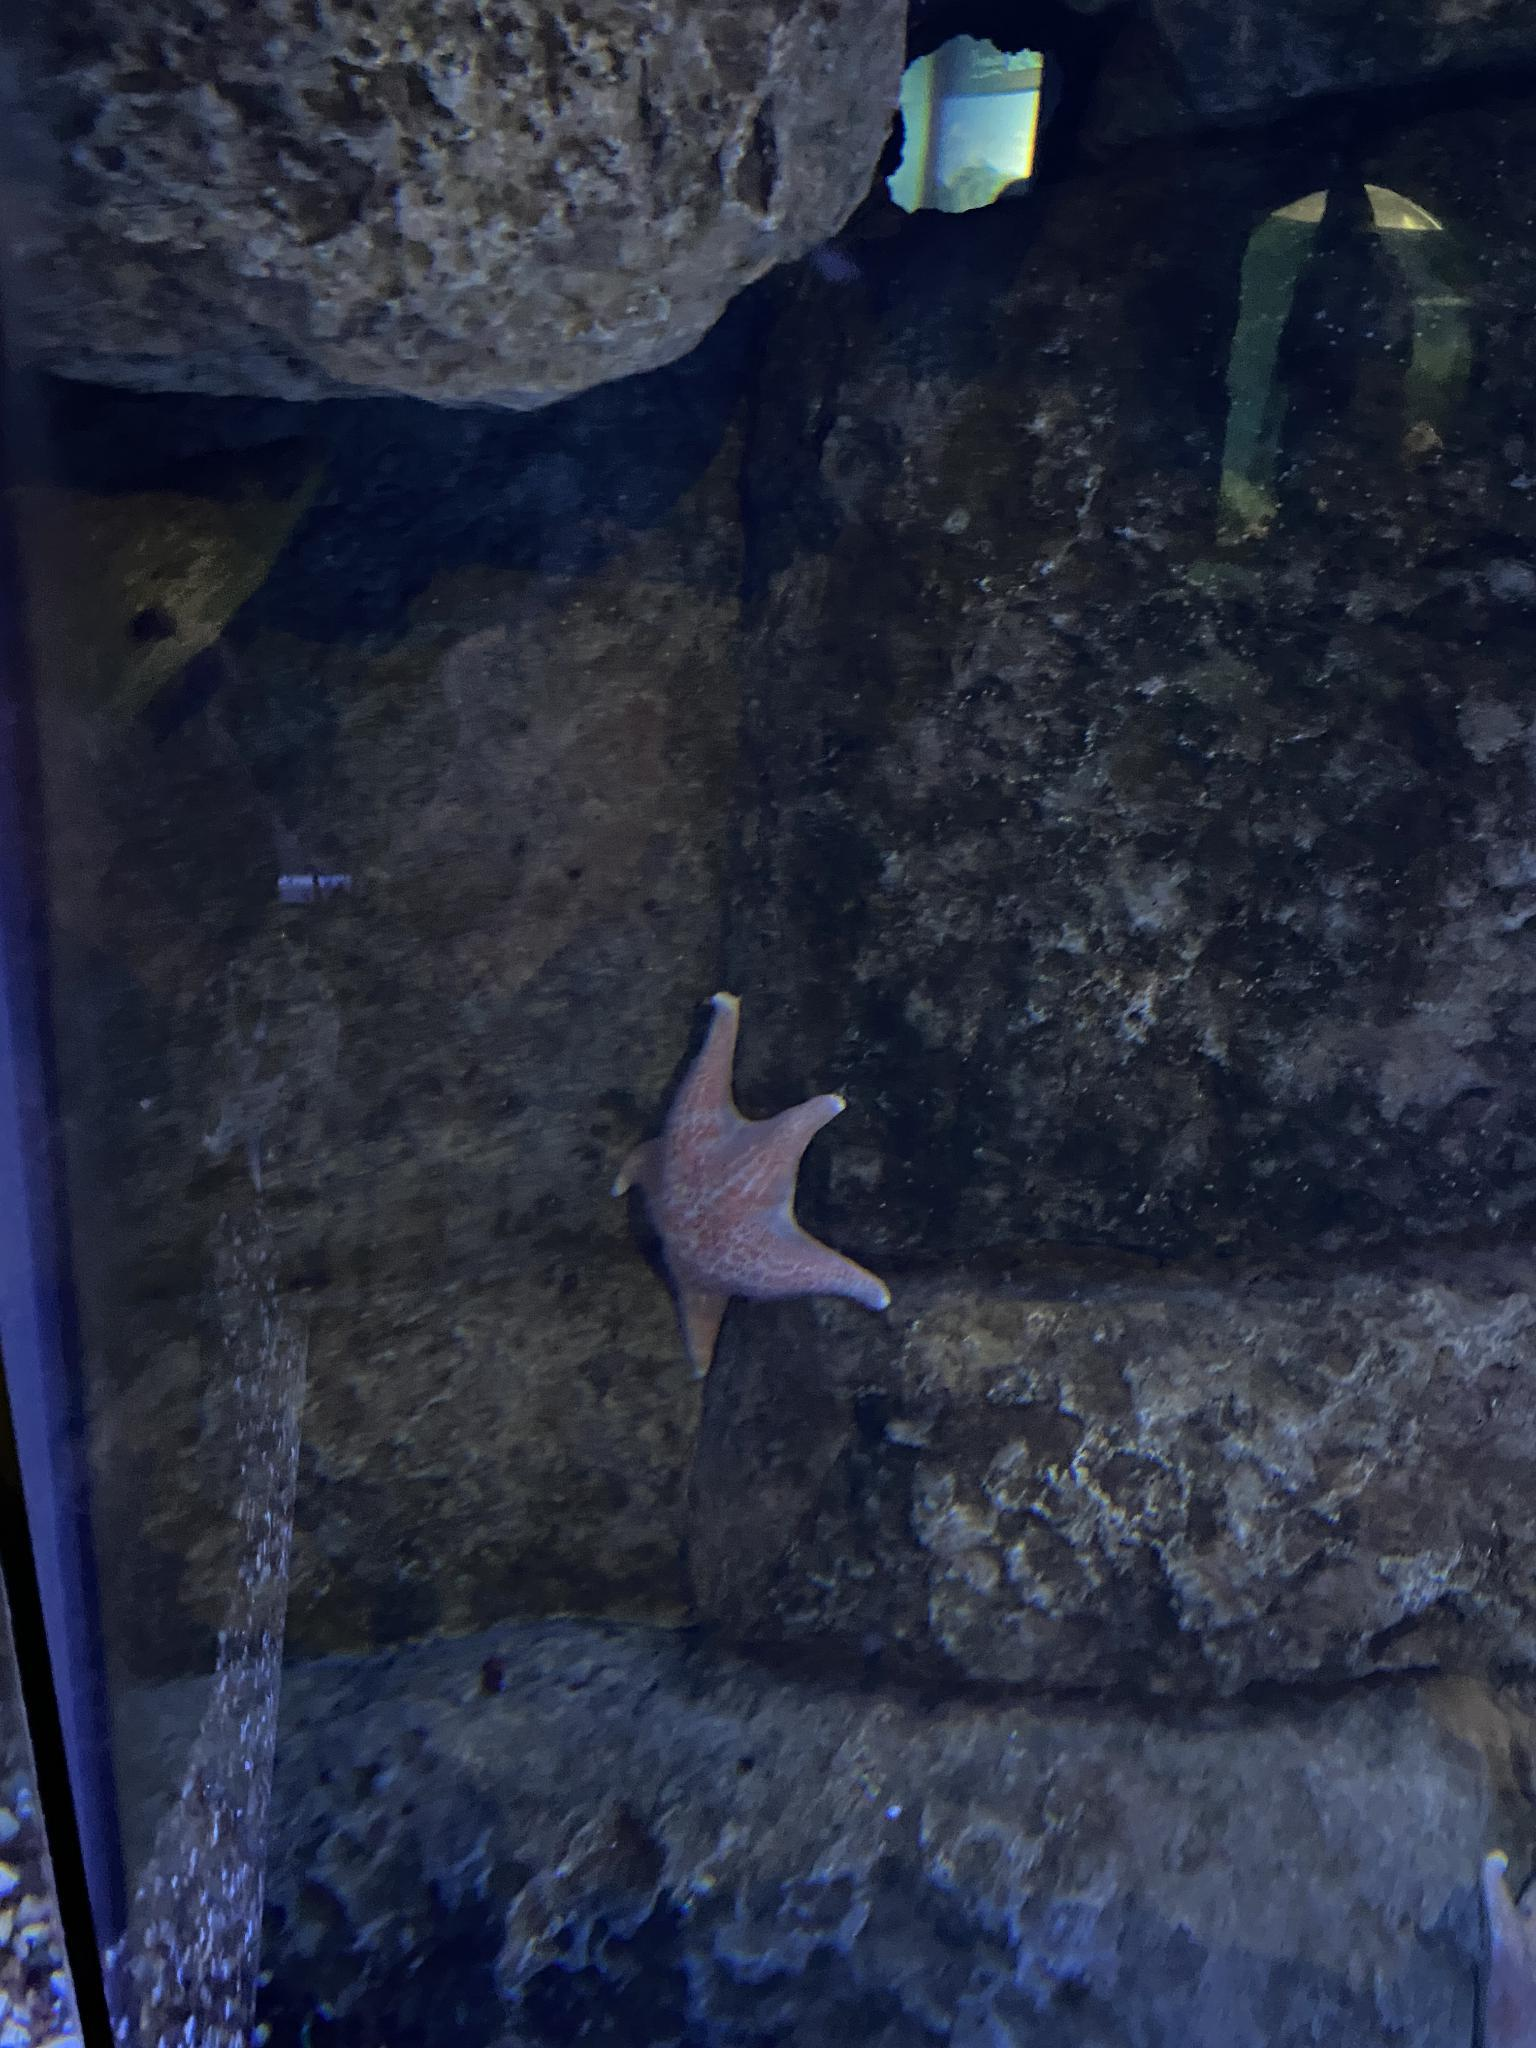starfish: (610, 992, 893, 1376)
